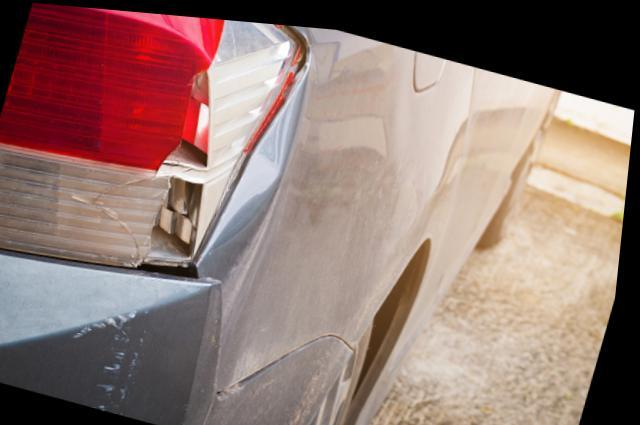lamp broken: (0, 2, 311, 266)
scratch: (75, 305, 159, 414)
